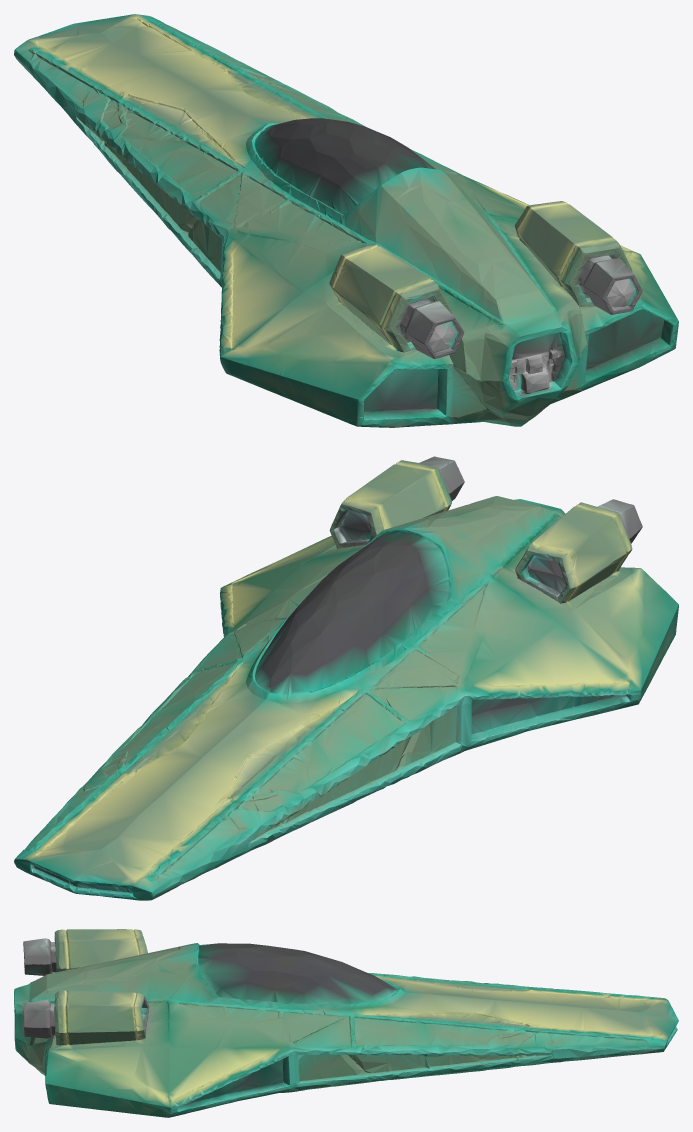
File: viper_hi.glb
The picture shows the model from 3 angles, top to bottom: view 1: azimuth 30°, elevation 25°; view 2: azimuth 150°, elevation 25°; view 3: azimuth 270°, elevation 25°; orthographic projection. The views are drawn at different scales.
Visible parts, largest first — view 1: geometry_0; view 2: geometry_0; view 3: geometry_0.
Boxes of the visible parts, x1,y1,x2,y2 form: geometry_0: (14, 14, 678, 427); geometry_0: (14, 456, 678, 900); geometry_0: (14, 929, 678, 1117).
Bounding box in the file's own units: 5.61 × 2.28 × 10.8.
